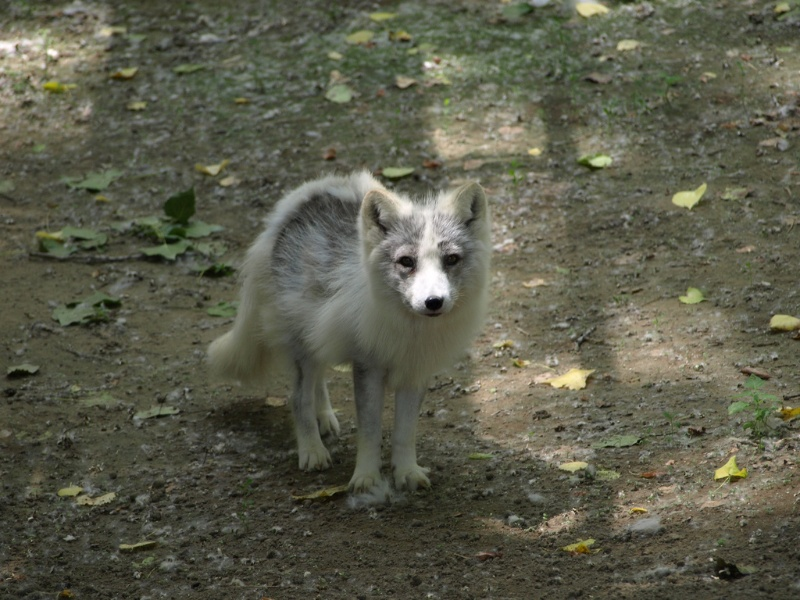fox: (200, 166, 496, 514)
